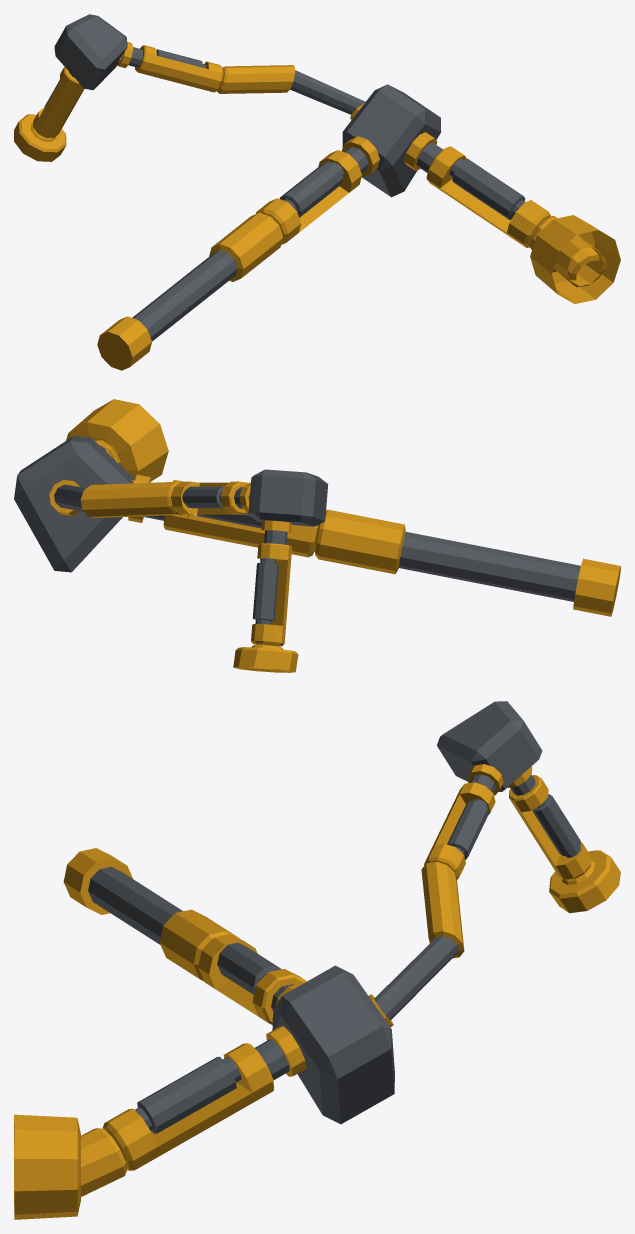
Rendered from Fighter_03_Pipes_04_Yellow.fbx.
The picture shows the model from 3 angles, top to bottom: view 1: azimuth 30°, elevation 25°; view 2: azimuth 150°, elevation 25°; view 3: azimuth 270°, elevation 25°; orthographic projection. The views are drawn at different scales.
Parts seen in each view (by area): view 1: Fighter_03_Pipes_04_Yellow; view 2: Fighter_03_Pipes_04_Yellow; view 3: Fighter_03_Pipes_04_Yellow.
Part boxes in pixels (left/top/right/bottom): Fighter_03_Pipes_04_Yellow: left=14, top=14, right=620, bottom=370; Fighter_03_Pipes_04_Yellow: left=14, top=399, right=620, bottom=672; Fighter_03_Pipes_04_Yellow: left=14, top=701, right=620, bottom=1219.
Size of the model in its own units: 462 by 203 by 377.
1 material, 1 textured.
